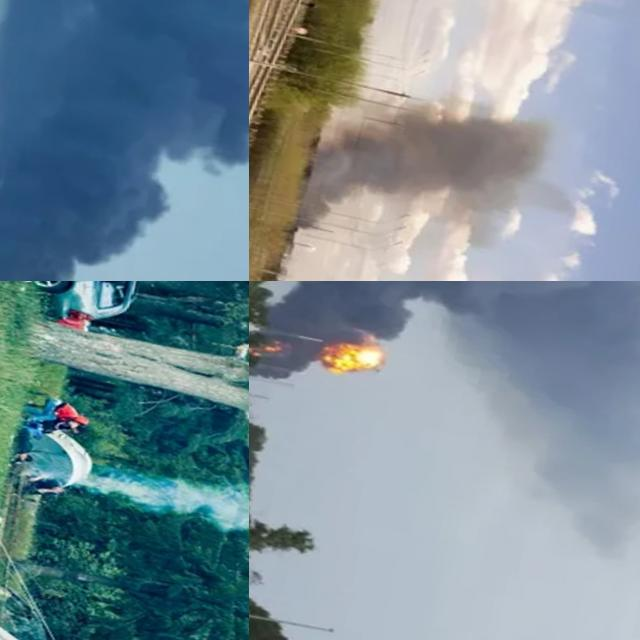smoke: (249, 281, 640, 534), (0, 0, 249, 281), (298, 80, 588, 281), (66, 437, 249, 596)
